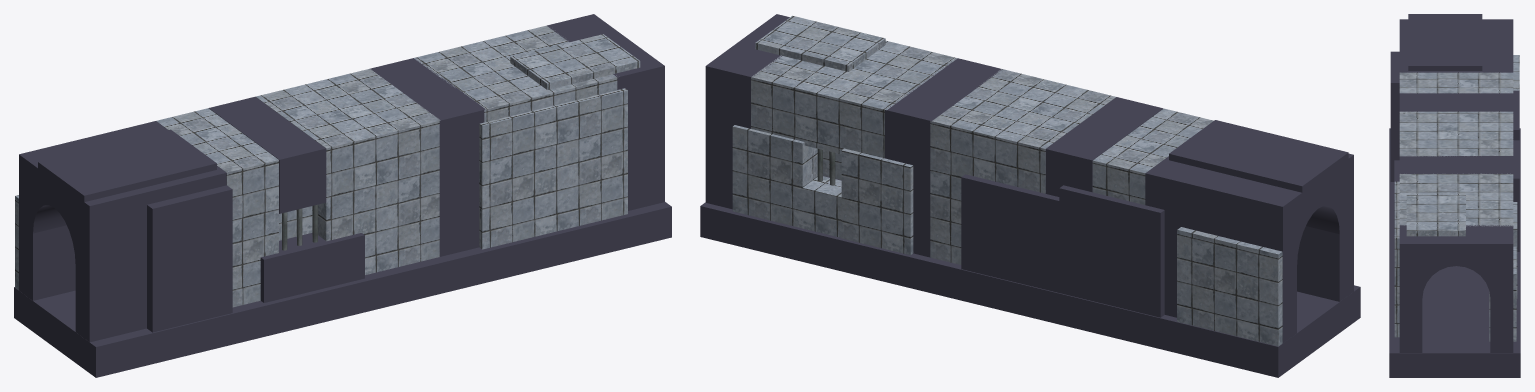
The model's file is LongHallwayWithWindow.fbx.
3 renders of one model, left to right at view 1: azimuth 30°, elevation 25°; view 2: azimuth 150°, elevation 25°; view 3: azimuth 270°, elevation 25°, orthographic. The views are drawn at different scales.
Parts seen in each view (by area): view 1: block_gate% (×7), block (×6); view 2: block (×9), block_gate% (×7); view 3: block_gate% (×7), block (×11).
Boxes of the visible parts, x1,y1,x2,y2 form: block_gate% (×7): [19, 14, 664, 342]; block (×6): [14, 34, 671, 377]; block (×9): [700, 15, 1360, 377]; block_gate% (×7): [705, 14, 1353, 343]; block_gate% (×7): [1399, 19, 1513, 352]; block (×11): [1389, 14, 1520, 377].
Bounding box in the file's own units: 64.78 × 18.65 × 15.97.
